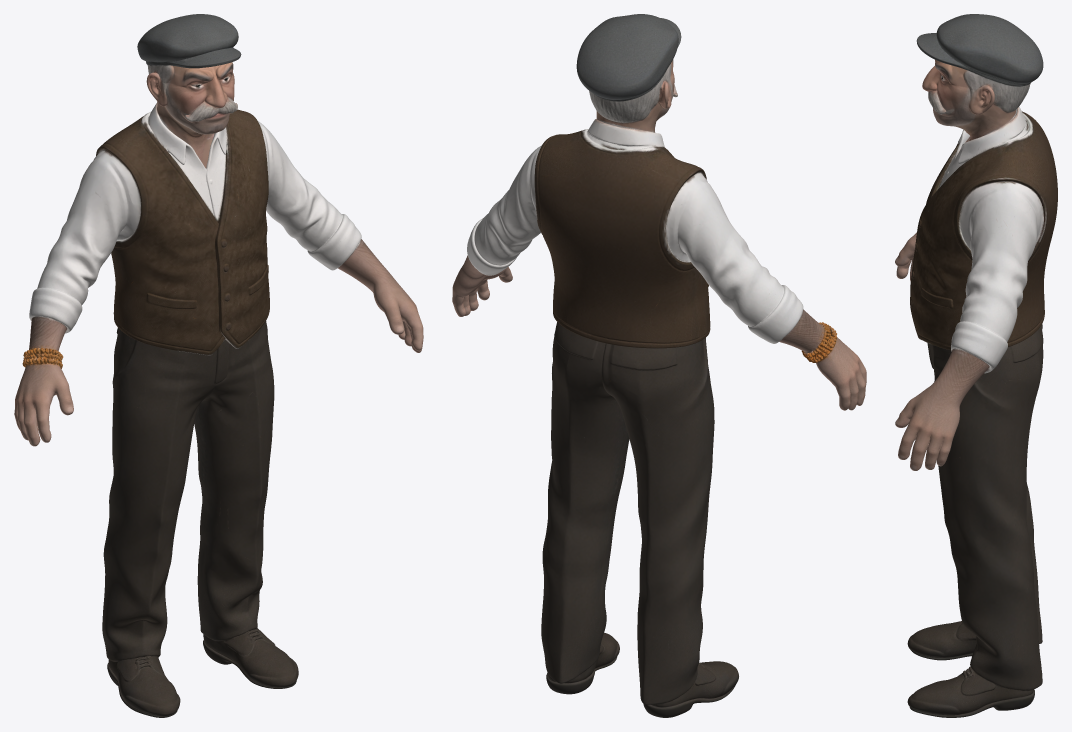
File: riza_ham_meshopt.glb
3 views of the same model, side by side, from view 1: azimuth 30°, elevation 25°; view 2: azimuth 150°, elevation 25°; view 3: azimuth 270°, elevation 25° (orthographic).
Bounding box in the file's own units: 1.2 × 1.9 × 0.4245.
Materials: 1 (1 with a texture image).
